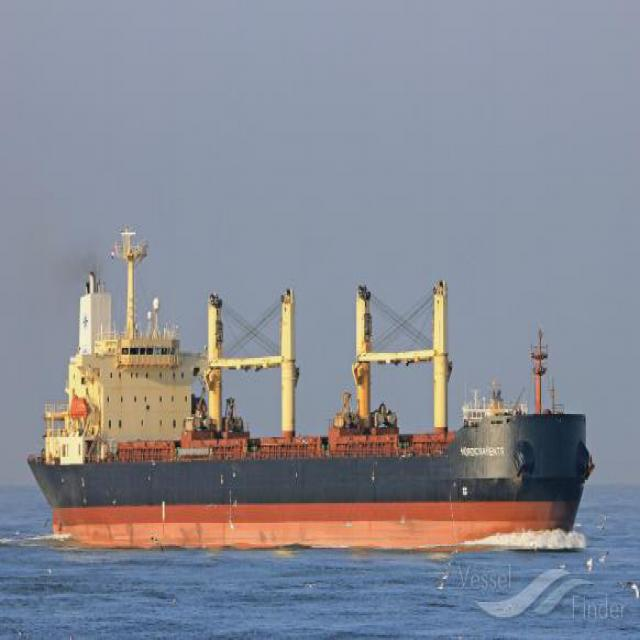OCR: (454, 434, 509, 462)
